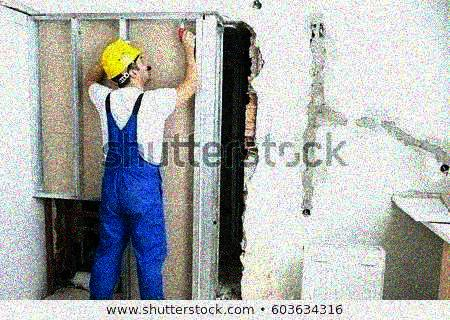helmet: (99, 38, 153, 88)
